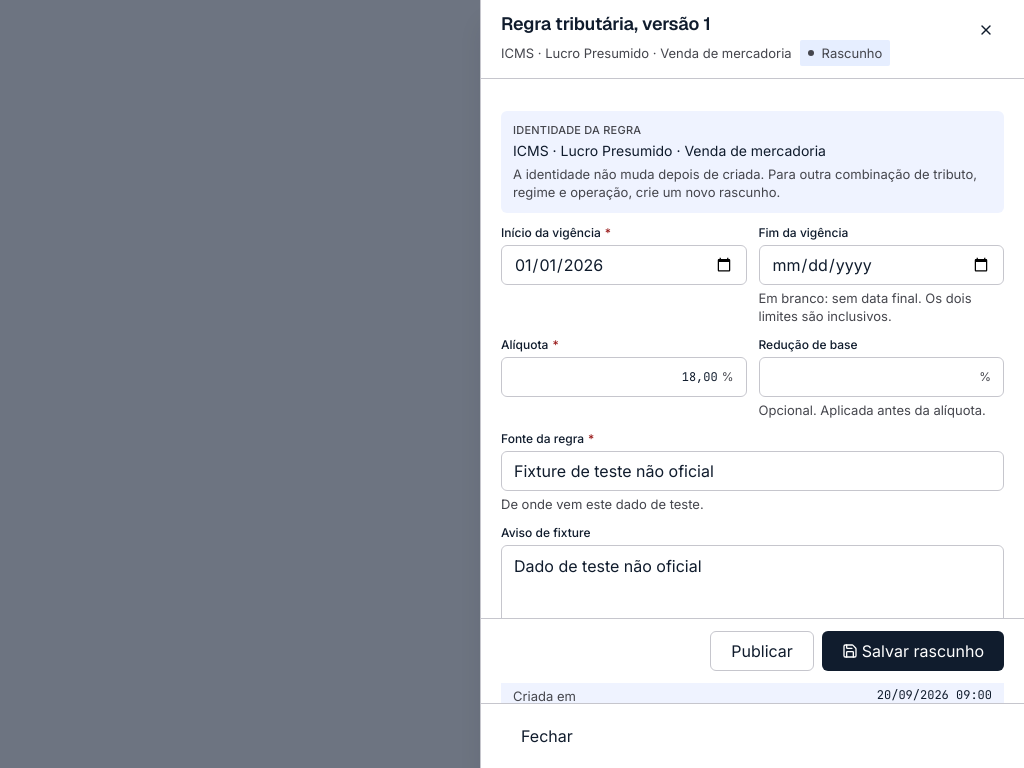
Test: EditorDeRegra — rascunho existente › só permite publicar o que está salvo: com alteração pendente explica o motivo
The width and height of the screenshot is (1024, 768).
Check: the button "Publicar" is enabled, box [710, 631, 814, 671]
Type "1" into the field labelled "Alíquota*" at {"x": 616, "y": 377}, box [514, 369, 718, 385]
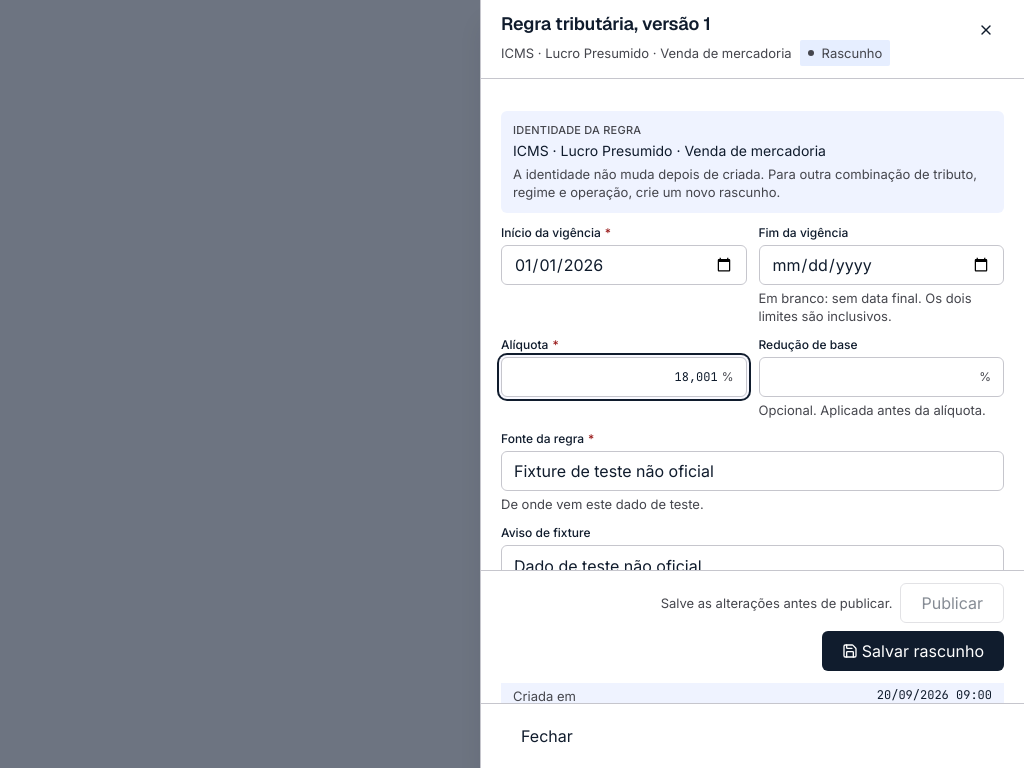
Check: the button "Publicar" is disabled, box [900, 583, 1004, 623]
Check: the text "Salve as alterações antes de publicar." is shown, box [661, 594, 892, 612]
